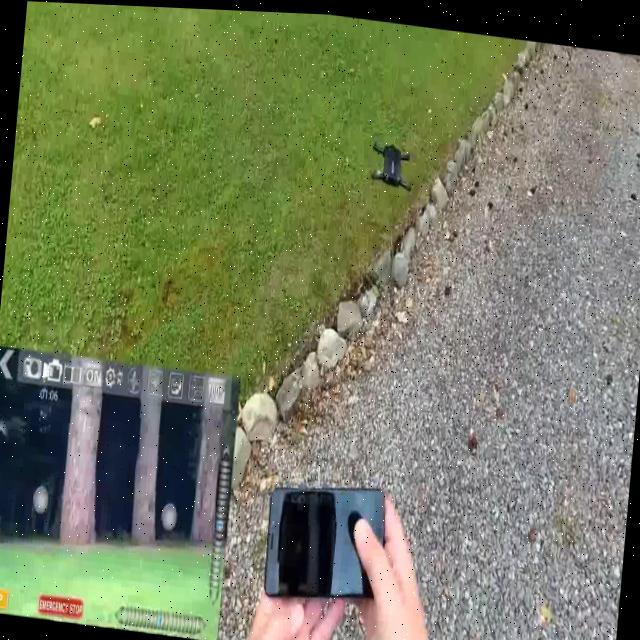drone: (362, 100, 428, 221)
